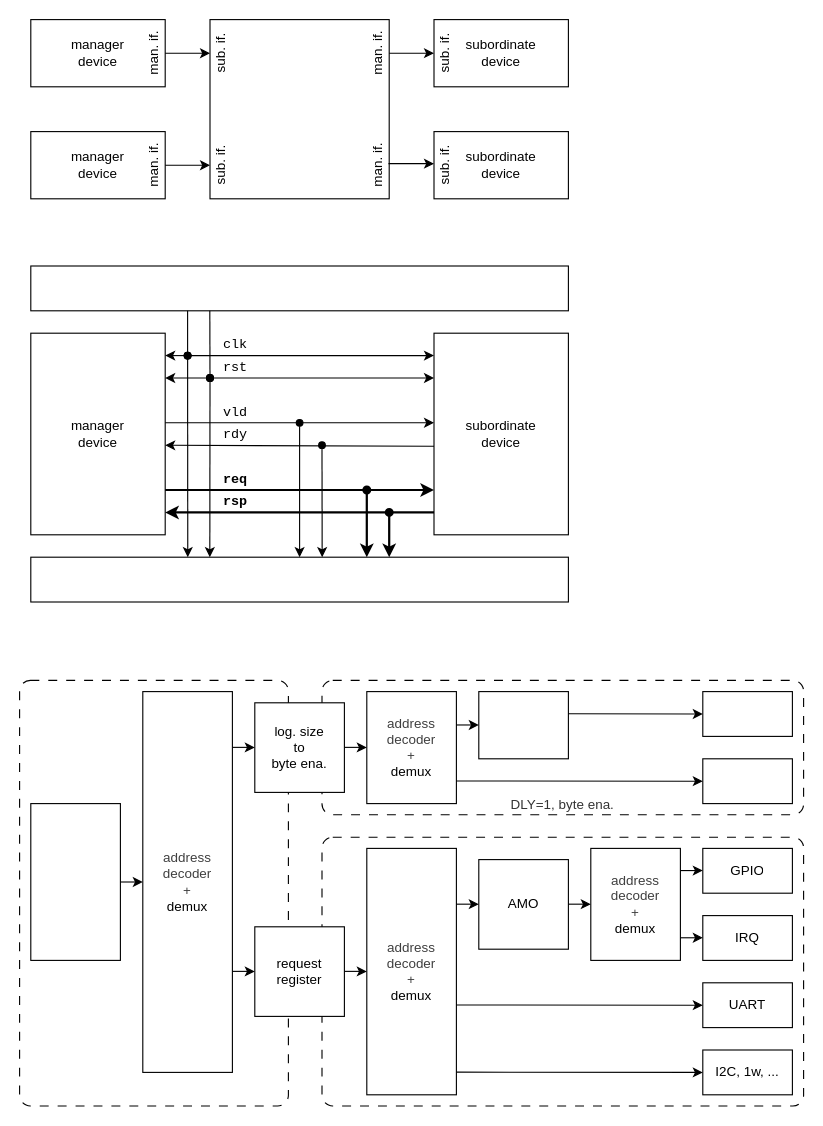
This 823x1126 diagram has some shape labels left out. The box of each missing label's shape, as (x1, y1, x2, y2) in pixels:
data RAM: (702, 758, 792, 804)
DLY=0, log. size: (321, 836, 804, 1106)
DLY=1, log. size: (18, 679, 288, 1106)
instruction RAM: (702, 690, 792, 736)
interconnect: (209, 18, 389, 199)
misaligned memory controller: (478, 690, 568, 759)
monitor: (30, 556, 568, 602)
RISC-V CPU: (30, 802, 120, 960)
system: (30, 265, 568, 311)
